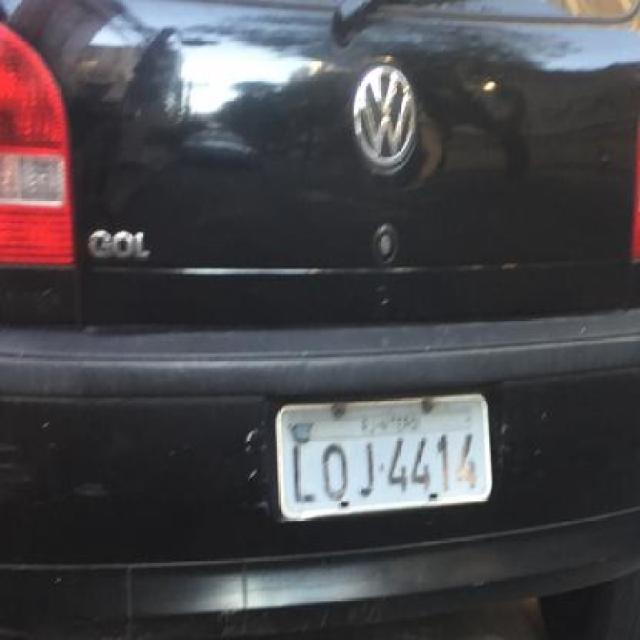old_plate: (269, 385, 499, 529)
